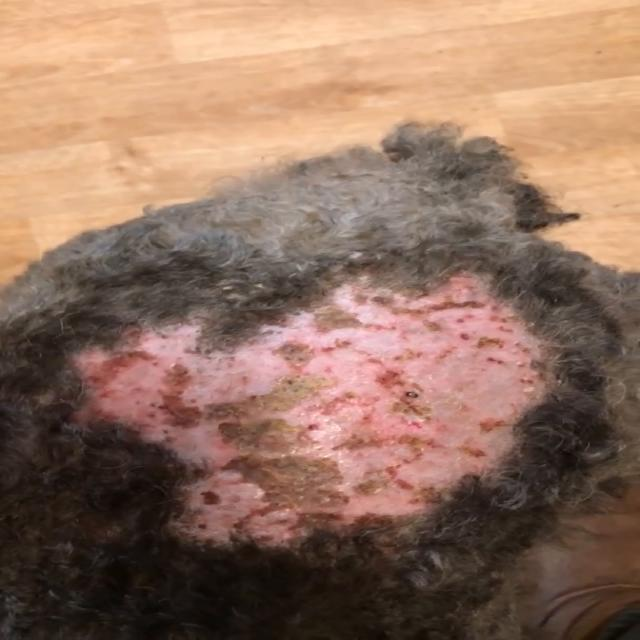allergic dermatitis: (56, 273, 536, 546)
